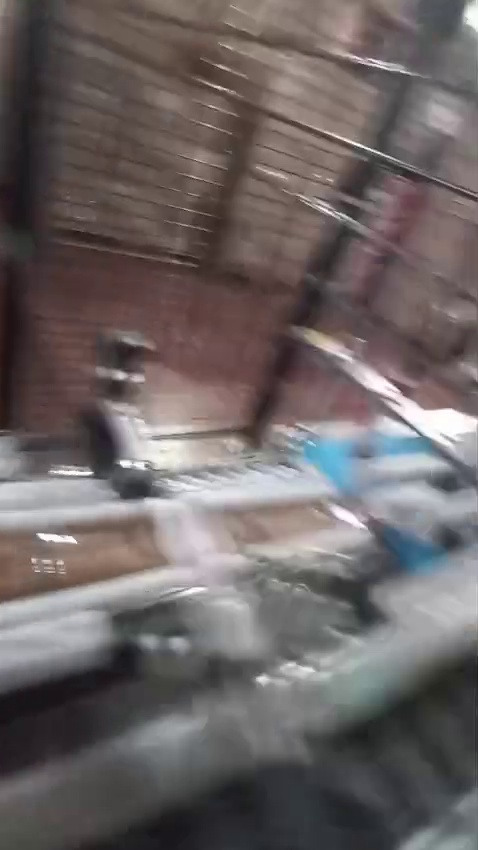savon: (100, 98, 264, 240), (96, 0, 313, 91), (16, 540, 167, 594), (80, 521, 150, 538), (0, 534, 32, 569), (104, 152, 136, 184), (307, 326, 336, 341), (236, 426, 254, 445), (70, 135, 80, 151)
